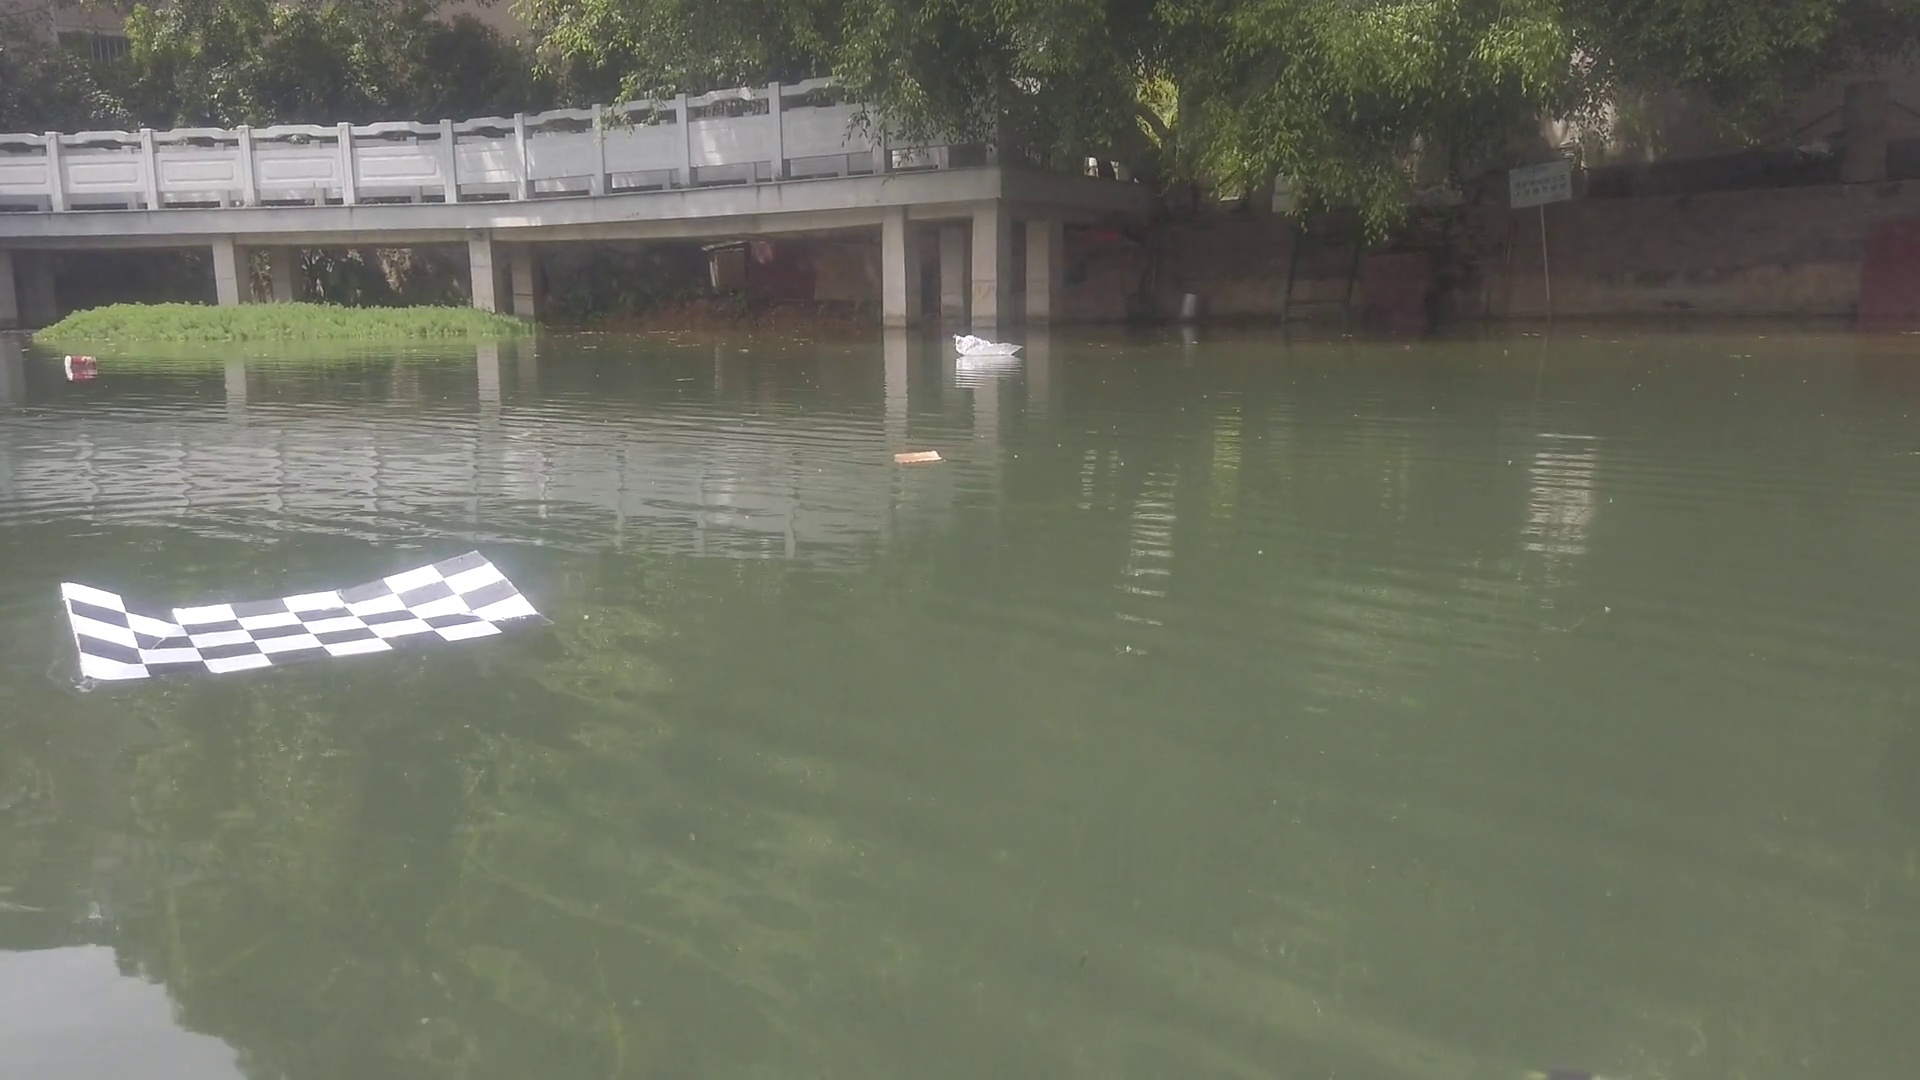bottle: (62, 351, 98, 367)
paper: (59, 545, 563, 684), (890, 446, 949, 469)
plastic: (953, 334, 1025, 357)
